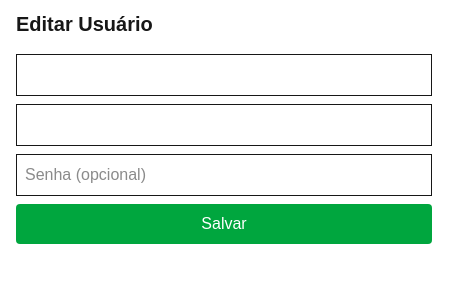
Scenario: EditUserPage › mostra erro se API falhar
The image size is (449, 289).
In the password field with placeholder "Senha (opcional)": (224, 175) [16,154,432,196], type "123456"
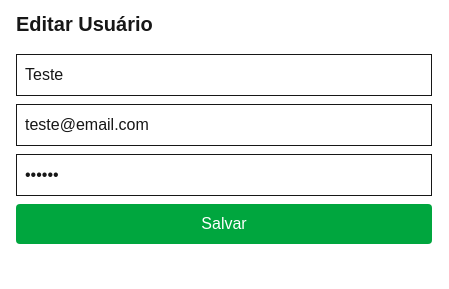
Click the button "Salvar": (224, 224) [16,204,432,244]
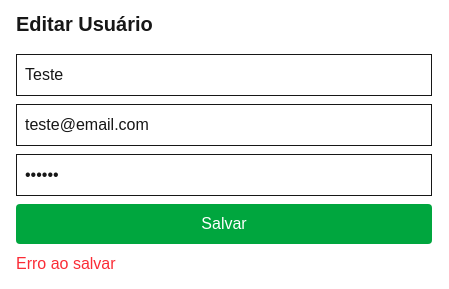
Now the text "Erro ao salvar" is shown, box [16,255,116,272]
